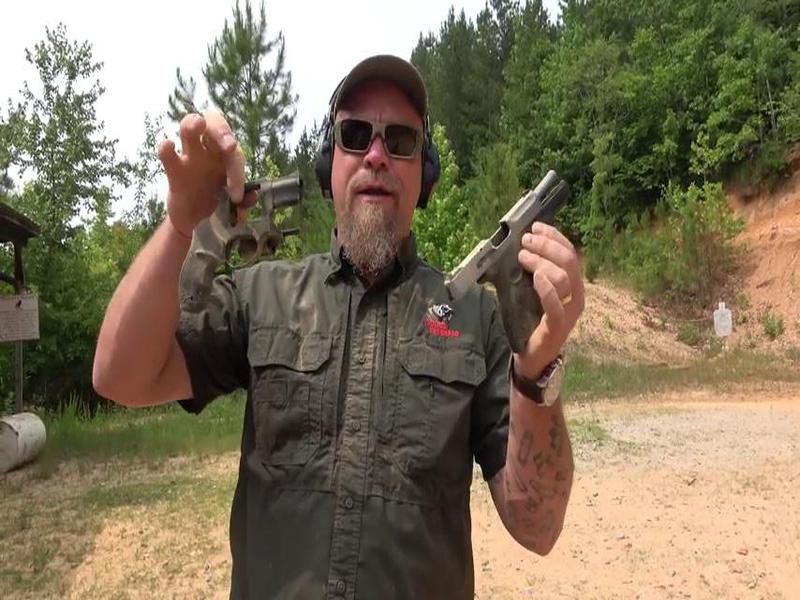Pistola: (432, 156, 578, 371)
